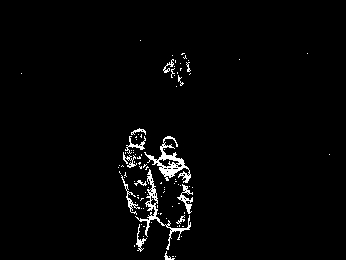person: (117, 127, 158, 253), (153, 135, 194, 260)
